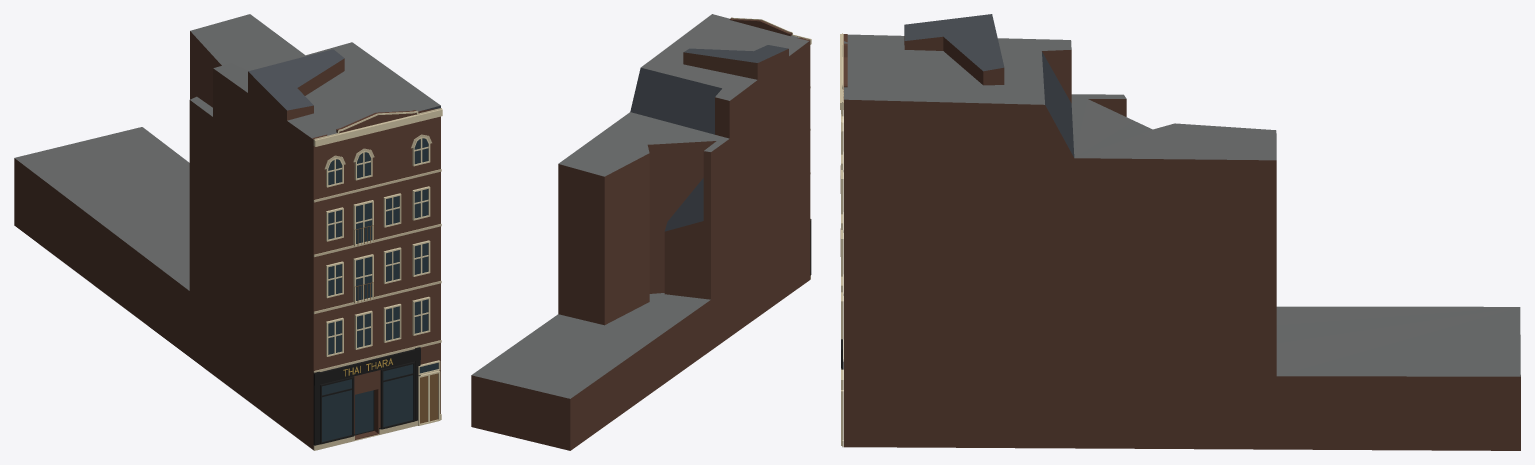
The model's file is recipe-bilder-087959.glb.
The picture shows the model from 3 angles, left to right: view 1: azimuth 30°, elevation 25°; view 2: azimuth 150°, elevation 25°; view 3: azimuth 270°, elevation 25°; orthographic projection. The views are drawn at different scales.
Parts seen in each view (by area): view 1: bilder-087959; view 2: bilder-087959; view 3: bilder-087959.
Part boxes in pixels (<box>): bilder-087959: <box>14,14,442,450</box>; bilder-087959: <box>471,14,811,450</box>; bilder-087959: <box>840,14,1520,450</box>.
Size of the model in its own units: 7.67 by 17.98 by 30.39.
